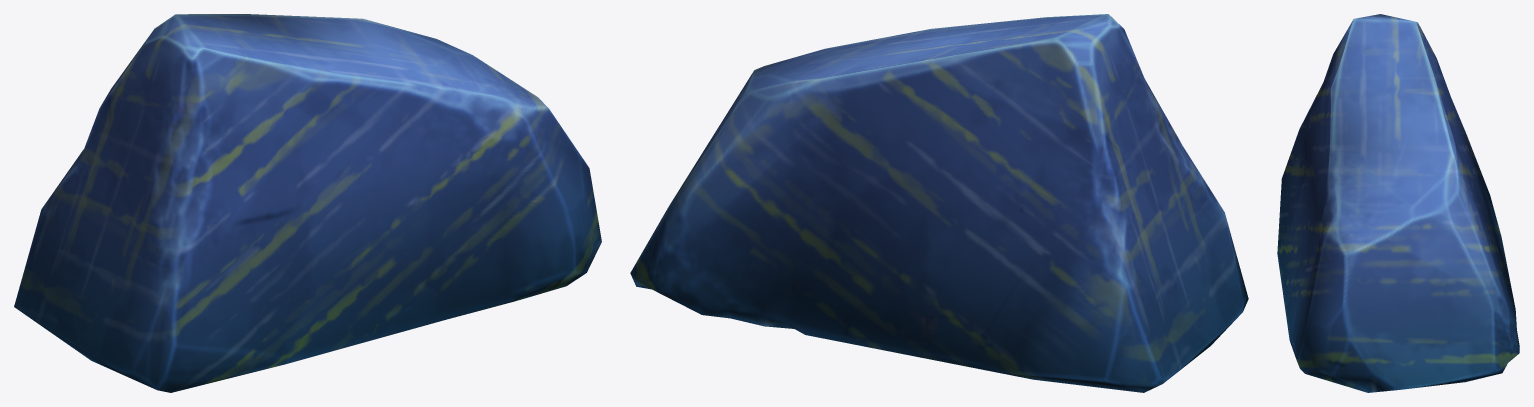
File: SM_Gem_LapisLazuli_005.fbx
3 renders of one model, left to right at view 1: azimuth 30°, elevation 25°; view 2: azimuth 150°, elevation 25°; view 3: azimuth 270°, elevation 25°, orthographic. The views are drawn at different scales.
Visible parts, largest first — view 1: SM_Gem_LapisLazuli_005; view 2: SM_Gem_LapisLazuli_005; view 3: SM_Gem_LapisLazuli_005.
Part boxes in pixels (x1,y1,x2,y2): SM_Gem_LapisLazuli_005: (14, 14, 601, 392); SM_Gem_LapisLazuli_005: (630, 14, 1248, 392); SM_Gem_LapisLazuli_005: (1277, 14, 1519, 392).
Size of the model in its own units: 68.22 by 36.84 by 35.34.
